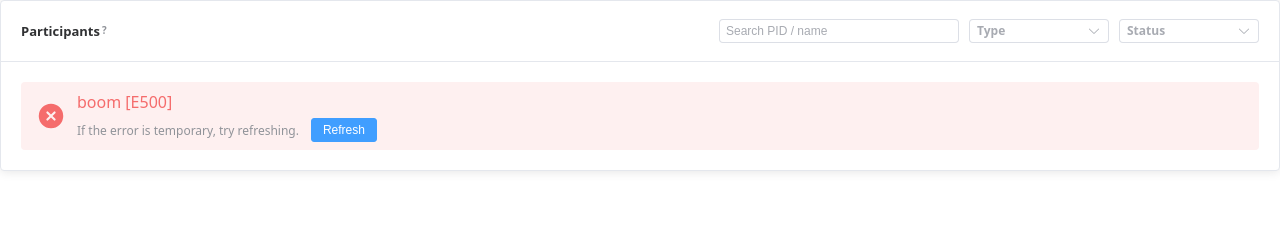
Test: mounted list pages: one state at a time › Participants recovers through the retry button of the failure
Expected: the message "boom [E500] If the error is temporary, try refreshing. Refresh" is shown, x1=21 y1=82 x2=1259 y2=150
Click the button "Refresh": (344, 130) x1=311 y1=118 x2=377 y2=142
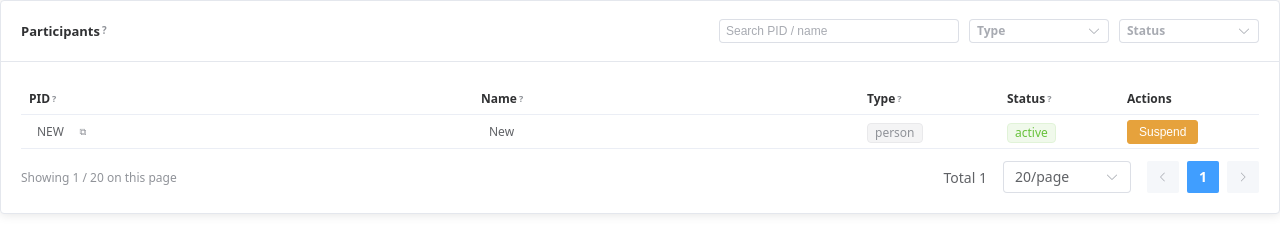
Now the text "NEW" is shown, box x1=37 y1=123 x2=64 y2=140
